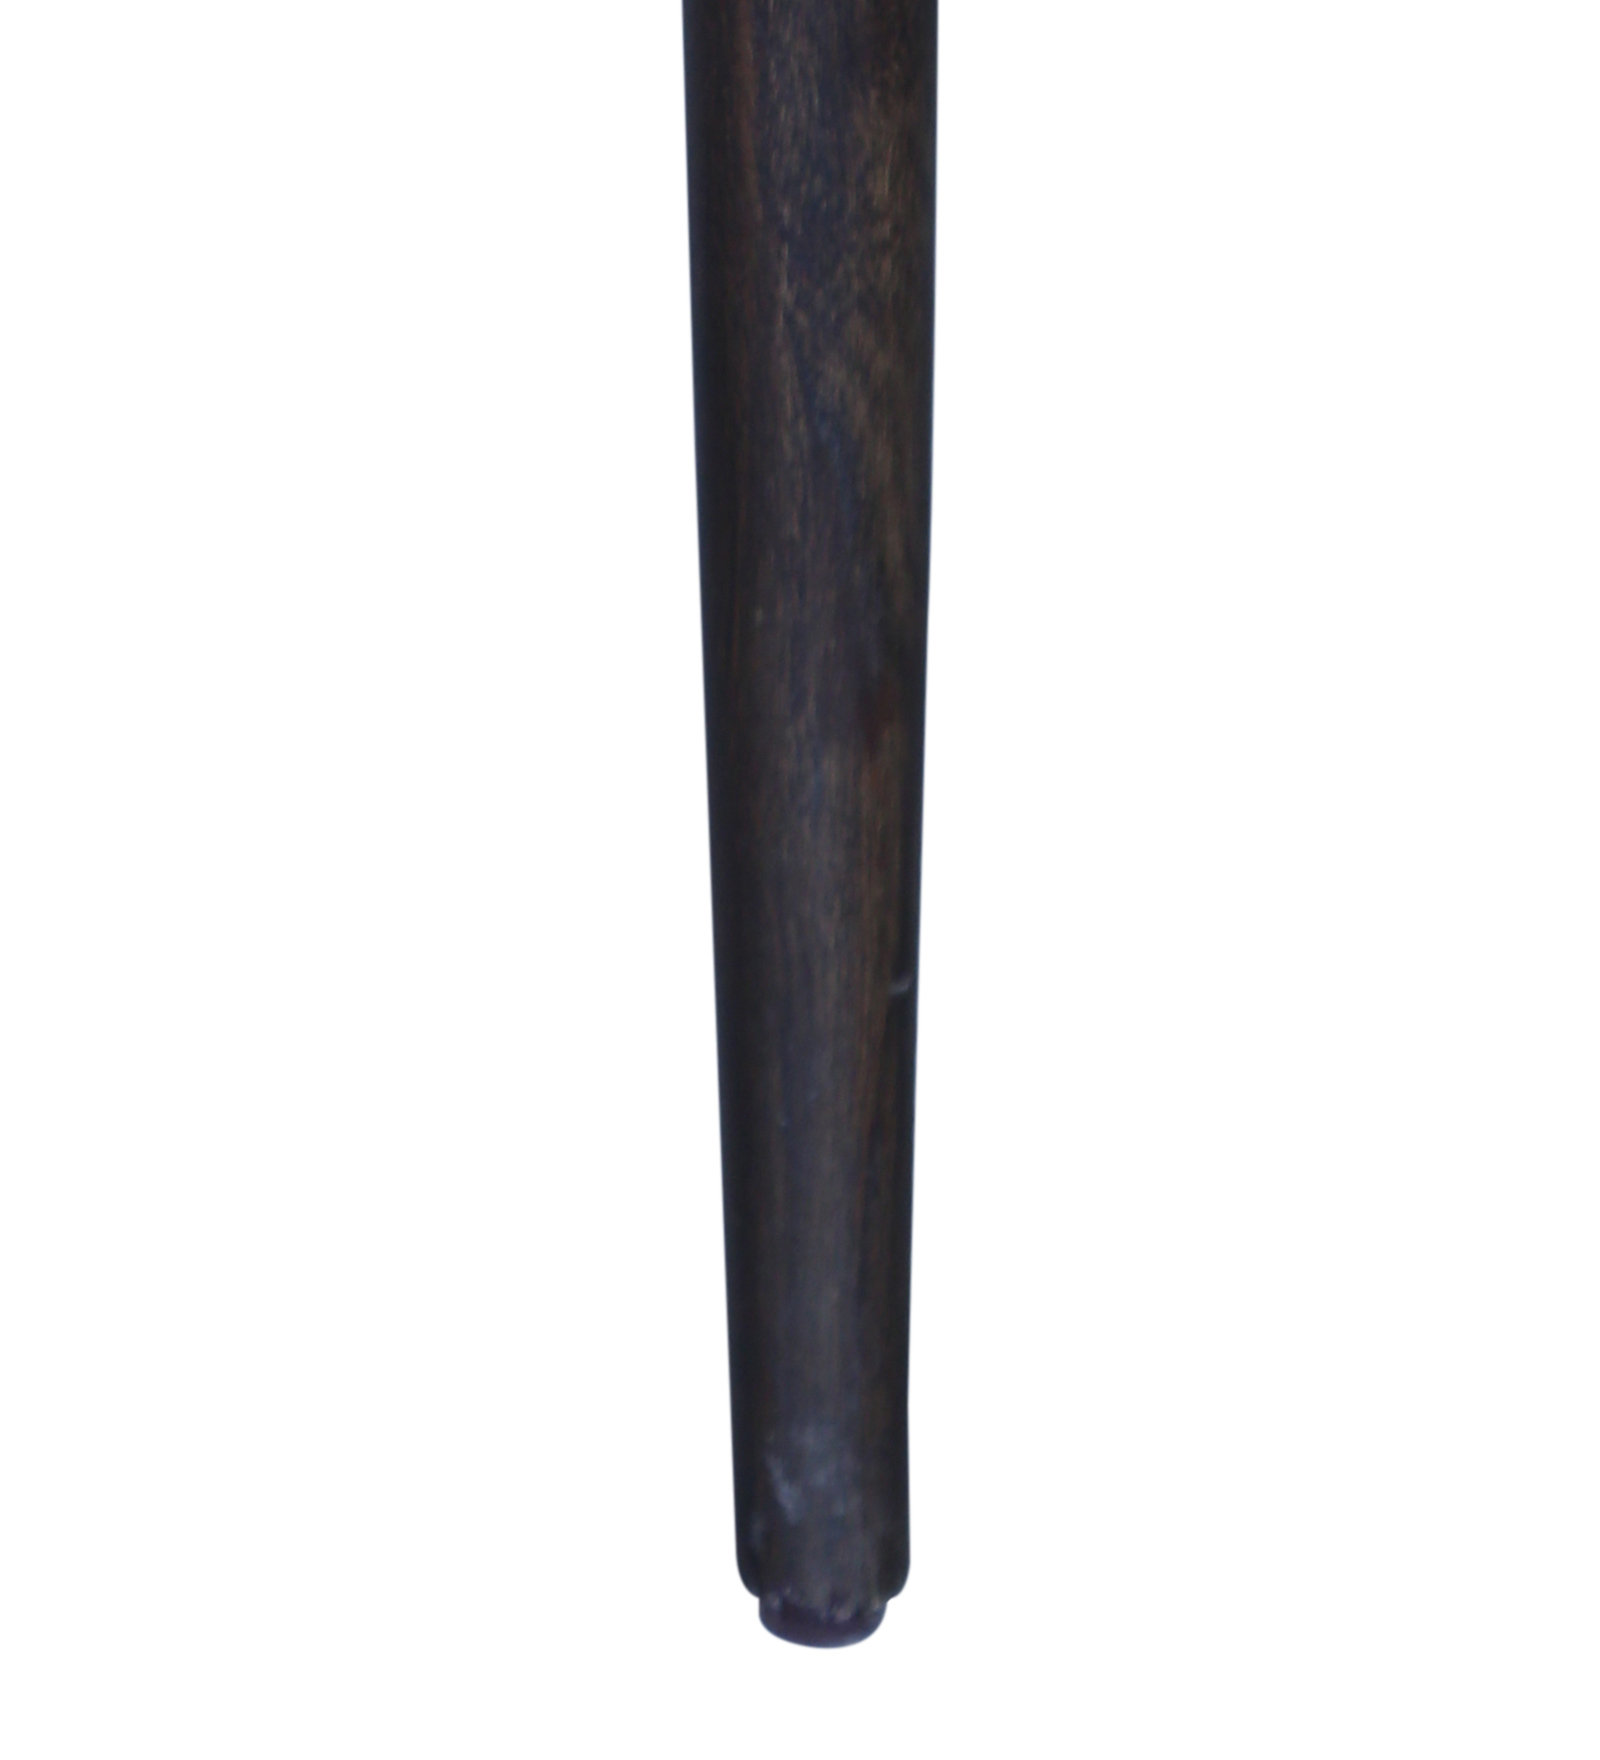Esvelt Arm Chair in Warm Chestnut Finish by Woodsworth: (633, 5, 1024, 1716)
